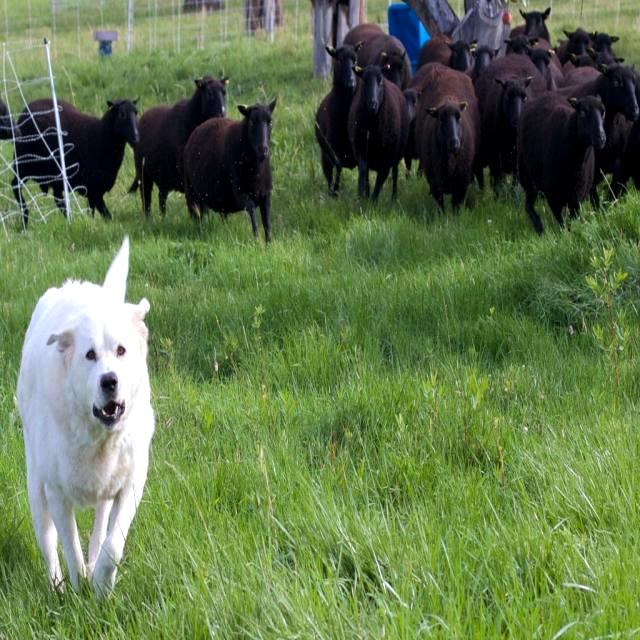sheep: (12, 96, 138, 217), (129, 76, 229, 215), (182, 100, 275, 228)
